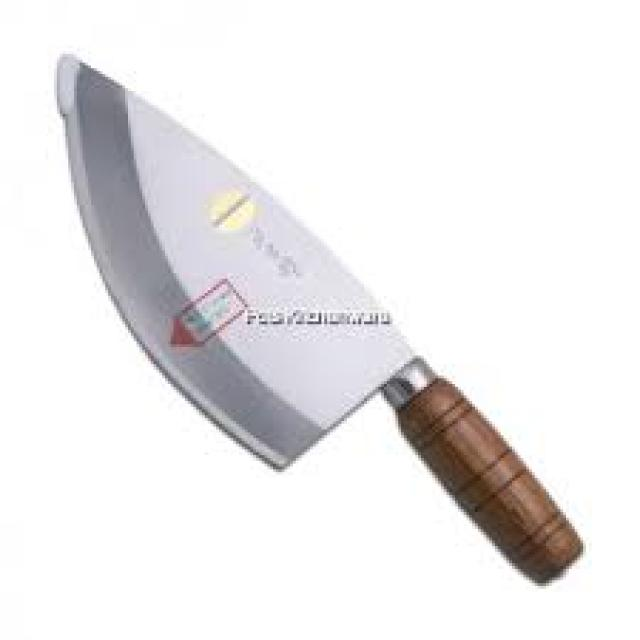Knife: (51, 51, 572, 583)
